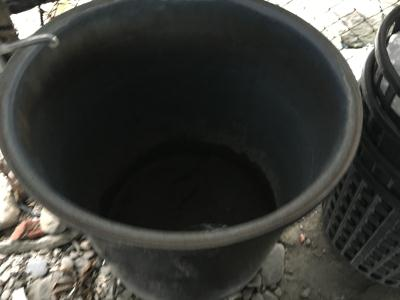bucket: (2, 1, 368, 298)
